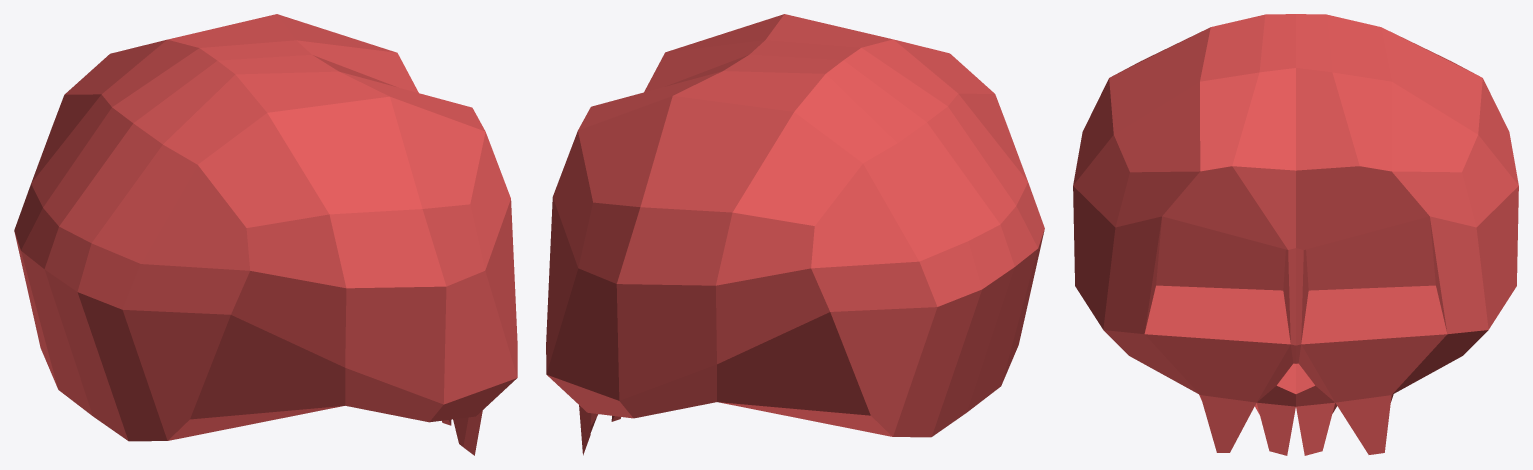
File: calavera.fbx
The picture shows the model from 3 angles, left to right: view 1: azimuth 30°, elevation 25°; view 2: azimuth 150°, elevation 25°; view 3: azimuth 270°, elevation 25°; orthographic projection. The views are drawn at different scales.
Parts seen in each view (by area): view 1: Calavera; view 2: Calavera; view 3: Calavera.
Boxes of the visible parts, left/top/right/bottom form: Calavera: left=14, top=14, right=517, bottom=455; Calavera: left=546, top=14, right=1044, bottom=455; Calavera: left=1073, top=14, right=1518, bottom=455.
Size of the model in its own units: 3.7 by 3.63 by 4.17.
